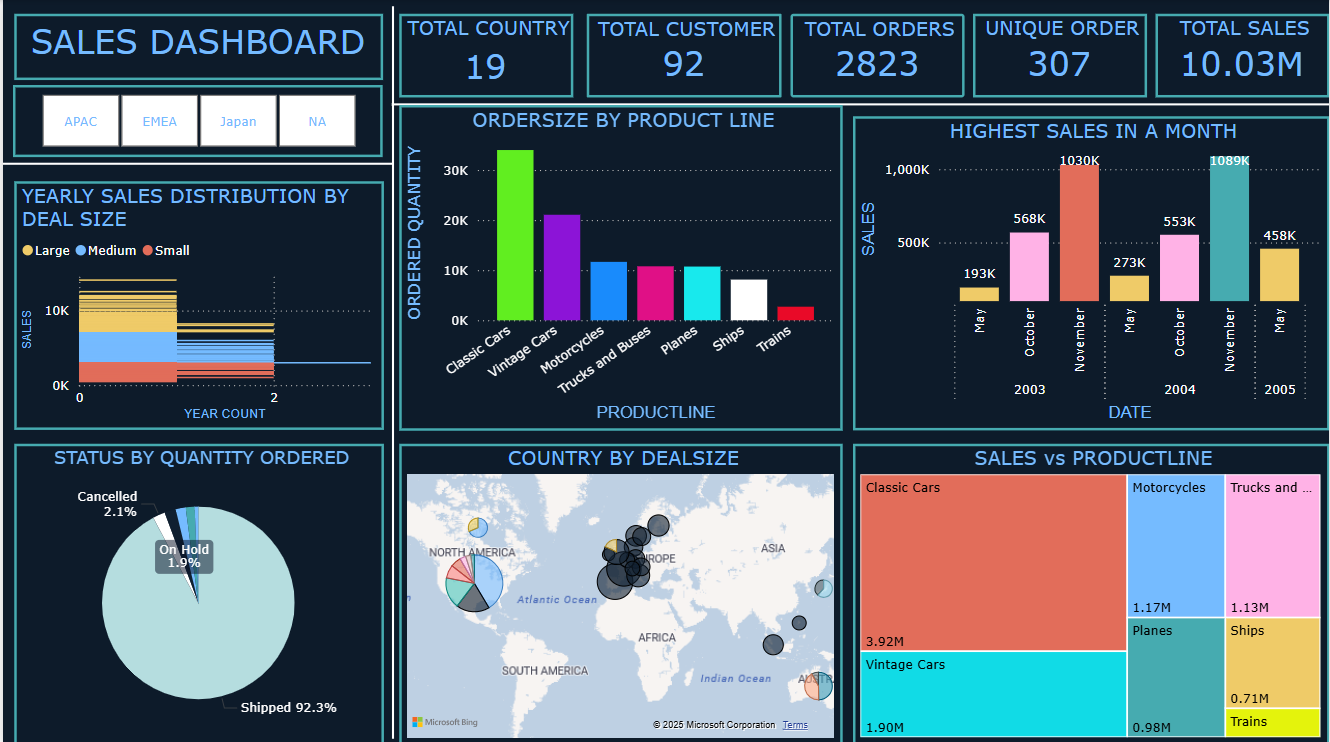

What the dashboard file says about the page in this screenshot:
{"tool":"powerbi","page":{"name":"Page 1","canvas":[1280,720],"ordinal":0},"visuals":[{"type":"textbox","box":[10.9,13.3,355.9,63.9],"z":0},{"type":"card","title":"UNIQUE ORDER","fields":{"Values":["Count(sales_data_sample.ORDERNUMBER)"]},"box":[936.2,13.3,167.7,80.8],"z":1000},{"type":"card","title":"TOTAL ORDERS","fields":{"Values":["CountNonNull(sales_data_sample.ORDERNUMBER)"]},"box":[760.1,13.3,167.7,80.8],"z":2000},{"type":"card","title":"TOTAL SALES","fields":{"Values":["Sum(sales_data_sample.SALES)"]},"box":[1112.3,13.3,167.7,80.8],"z":3000},{"type":"slicer","fields":{"Values":["sales_data_sample.TERRITORY"]},"box":[9.7,82,357.1,70],"z":4000},{"type":"map","title":"COUNTRY BY DEALSIZE","fields":{"Category":["sales_data_sample.COUNTRY"],"Series":["sales_data_sample.STATE"],"Size":["CountNonNull(sales_data_sample.DEALSIZE)"]},"box":[382.4,428.3,428.3,292],"z":5000},{"type":"card","title":"TOTAL CUSTOMER","fields":{"Values":["Count(sales_data_sample.CUSTOMERNAME)"]},"box":[563.4,13.3,188.2,80.8],"z":6000},{"type":"pieChart","title":"STATUS BY QUANTITY ORDERED","fields":{"Category":["sales_data_sample.STATUS"],"Y":["Sum(sales_data_sample.QUANTITYORDERED)"]},"box":[10.9,428.3,357.1,292],"z":7000},{"type":"treemap","title":"SALES vs PRODUCTLINE","fields":{"Group":["sales_data_sample.PRODUCTLINE"],"Values":["Sum(sales_data_sample.SALES)"]},"box":[820.4,428.3,459.7,292],"z":8000},{"type":"barChart","title":"YEARLY SALES DISTRIBUTION BY DEAL SIZE","fields":{"Y":["CountNonNull(sales_data_sample.YEAR)"],"Category":["sales_data_sample.SALES"],"Series":["sales_data_sample.DEALSIZE"]},"box":[10.9,174.9,357.1,240.1],"z":10000},{"type":"card","title":"TOTAL COUNTRY","fields":{"Values":["Count(sales_data_sample.COUNTRY)"]},"box":[382.4,13.3,167.7,80.8],"z":11000},{"type":"shape","box":[375.2,73.6,904.8,54.3],"z":12000},{"type":"shape","box":[337.8,6,77.2,707],"z":13000},{"type":"shape","box":[0,101.3,376.4,113.4],"z":14000},{"type":"columnChart","title":"HIGHEST SALES IN A MONTH","fields":{"Y":["Sum(sales_data_sample.SALES)"],"Category":["sales_data_sample.Combined_date.Variation.Date Hierarchy.Year","sales_data_sample.Combined_date.Variation.Date Hierarchy.Month"]},"box":[820.4,112.2,459.7,302.8],"z":15000},{"type":"clusteredColumnChart","title":"ORDERSIZE BY PRODUCT LINE","fields":{"Category":["sales_data_sample.PRODUCTLINE"],"Y":["Sum(sales_data_sample.QUANTITYORDERED)"]},"box":[382.8,101.5,428.1,314.2],"z":15001}]}

Visuals, with their boxes in screenshot pixels (x1, y1, x2, y2), scaled from the page's 1280x720 canvas onto the 1330x742 screenshot:
textbox: l=11, t=14, r=381, b=80
"UNIQUE ORDER" card: l=973, t=14, r=1147, b=97
"TOTAL ORDERS" card: l=790, t=14, r=964, b=97
"TOTAL SALES" card: l=1156, t=14, r=1329, b=97
slicer - sales_data_sample.TERRITORY: l=10, t=85, r=381, b=157
"COUNTRY BY DEALSIZE" map: l=397, t=441, r=842, b=741
"TOTAL CUSTOMER" card: l=585, t=14, r=781, b=97
"STATUS BY QUANTITY ORDERED" pieChart: l=11, t=441, r=382, b=741
"SALES vs PRODUCTLINE" treemap: l=852, t=441, r=1329, b=741
"YEARLY SALES DISTRIBUTION BY DEAL SIZE" barChart: l=11, t=180, r=382, b=428
"TOTAL COUNTRY" card: l=397, t=14, r=572, b=97
shape: l=390, t=76, r=1329, b=132
shape: l=351, t=6, r=431, b=735
shape: l=0, t=104, r=391, b=221
"HIGHEST SALES IN A MONTH" columnChart: l=852, t=116, r=1329, b=428
"ORDERSIZE BY PRODUCT LINE" clusteredColumnChart: l=398, t=105, r=843, b=428
